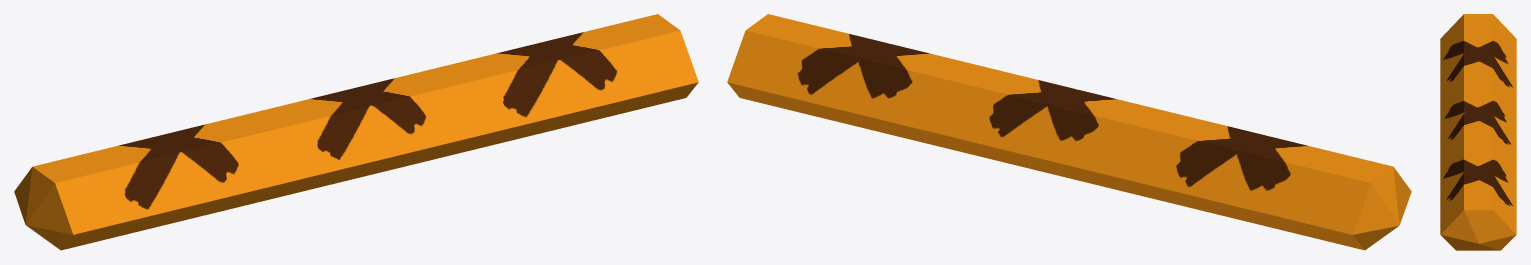
The model's file is yoot-highlight.glb.
3 renders of one model, left to right at view 1: azimuth 30°, elevation 25°; view 2: azimuth 150°, elevation 25°; view 3: azimuth 270°, elevation 25°, orthographic. The views are drawn at different scales.
Parts seen in each view (by area): view 1: Cylinder.011; view 2: Cylinder.011; view 3: Cylinder.011.
Boxes of the visible parts, bbox=[...] form: Cylinder.011: bbox=[14, 14, 698, 250]; Cylinder.011: bbox=[727, 14, 1411, 250]; Cylinder.011: bbox=[1440, 14, 1516, 250].
Bounding box in the file's own units: 10.36 × 0.9723 × 1.62.
Materials: 1 (1 with a texture image).
